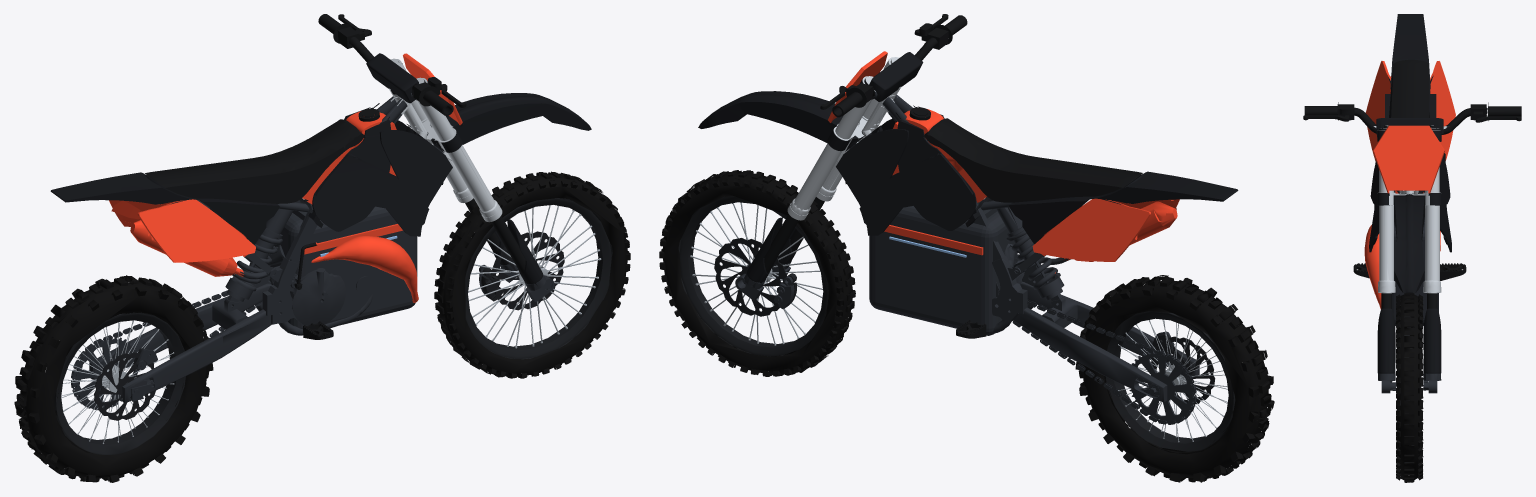
Rendered from sport.glb.
3 renders of one model, left to right at view 1: azimuth 30°, elevation 25°; view 2: azimuth 150°, elevation 25°; view 3: azimuth 270°, elevation 25°, orthographic. The views are drawn at different scales.
Visible parts, largest first — view 1: Object_3, Object_15, Cube, GT_stripe, Object_10; view 2: Object_3, Cube, Object_15, GT_stripe, Object_10; view 3: Object_3, Object_15, GT_stripe, Object_10, Cube.
Boxes of the visible parts, left/top/right/bottom form: Object_3: left=14, top=14, right=630, bottom=482; Object_15: left=50, top=53, right=591, bottom=284; Cube: left=54, top=198, right=612, bottom=454; GT_stripe: left=109, top=53, right=462, bottom=262; Object_10: left=130, top=111, right=418, bottom=302; Object_3: left=659, top=14, right=1274, bottom=482; Cube: left=678, top=196, right=1235, bottom=451; Object_15: left=698, top=52, right=1238, bottom=282; GT_stripe: left=828, top=51, right=1179, bottom=261; Object_10: left=892, top=109, right=1177, bottom=273; Object_3: left=1303, top=59, right=1521, bottom=482; Object_15: left=1369, top=14, right=1451, bottom=373; GT_stripe: left=1366, top=61, right=1455, bottom=251; Object_10: left=1364, top=76, right=1423, bottom=309; Cube: left=1392, top=190, right=1438, bottom=462.
Bounding box in the file's own units: 1.98 × 1.11 × 0.7041.
Materials: 5 (5 with a texture image).
